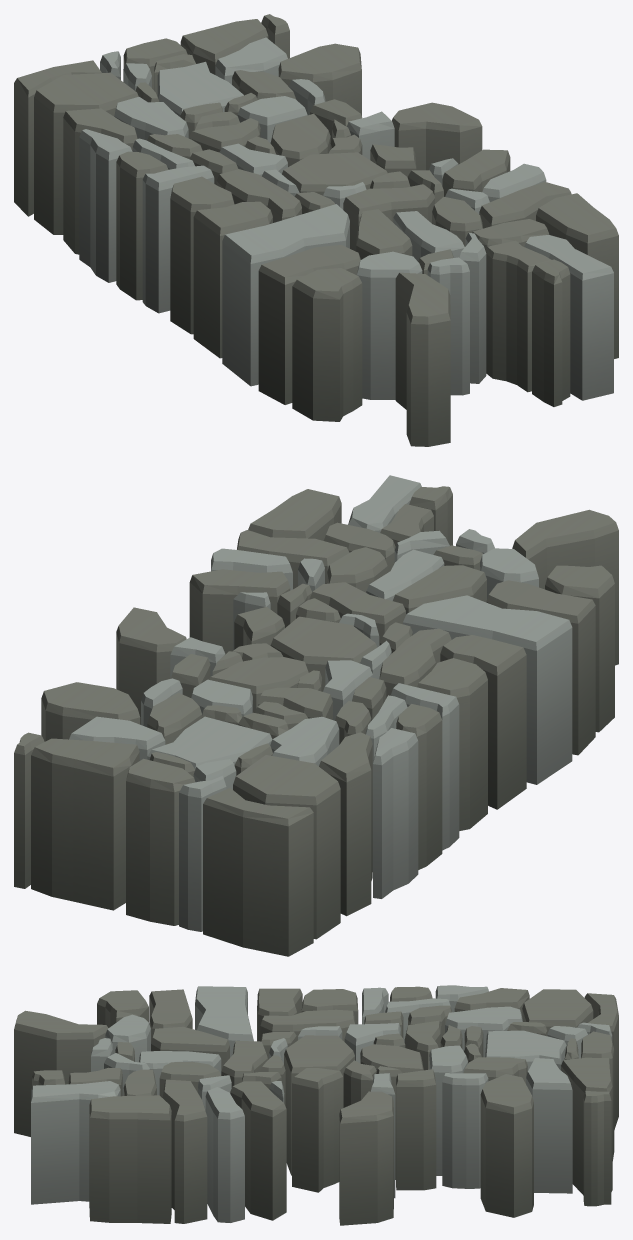
Rendered from ZLP_Road_B_4.FBX.
The picture shows the model from 3 angles, top to bottom: view 1: azimuth 30°, elevation 25°; view 2: azimuth 150°, elevation 25°; view 3: azimuth 270°, elevation 25°; orthographic projection. The views are drawn at different scales.
Parts seen in each view (by area): view 1: ZLP_Road_B_4; view 2: ZLP_Road_B_4; view 3: ZLP_Road_B_4.
Part boxes in pixels (x1=…): ZLP_Road_B_4: x1=14, y1=14, x2=618, y2=446; ZLP_Road_B_4: x1=14, y1=475, x2=618, y2=956; ZLP_Road_B_4: x1=14, y1=985, x2=618, y2=1225.
Size of the model in its own units: 372 by 144 by 722.
